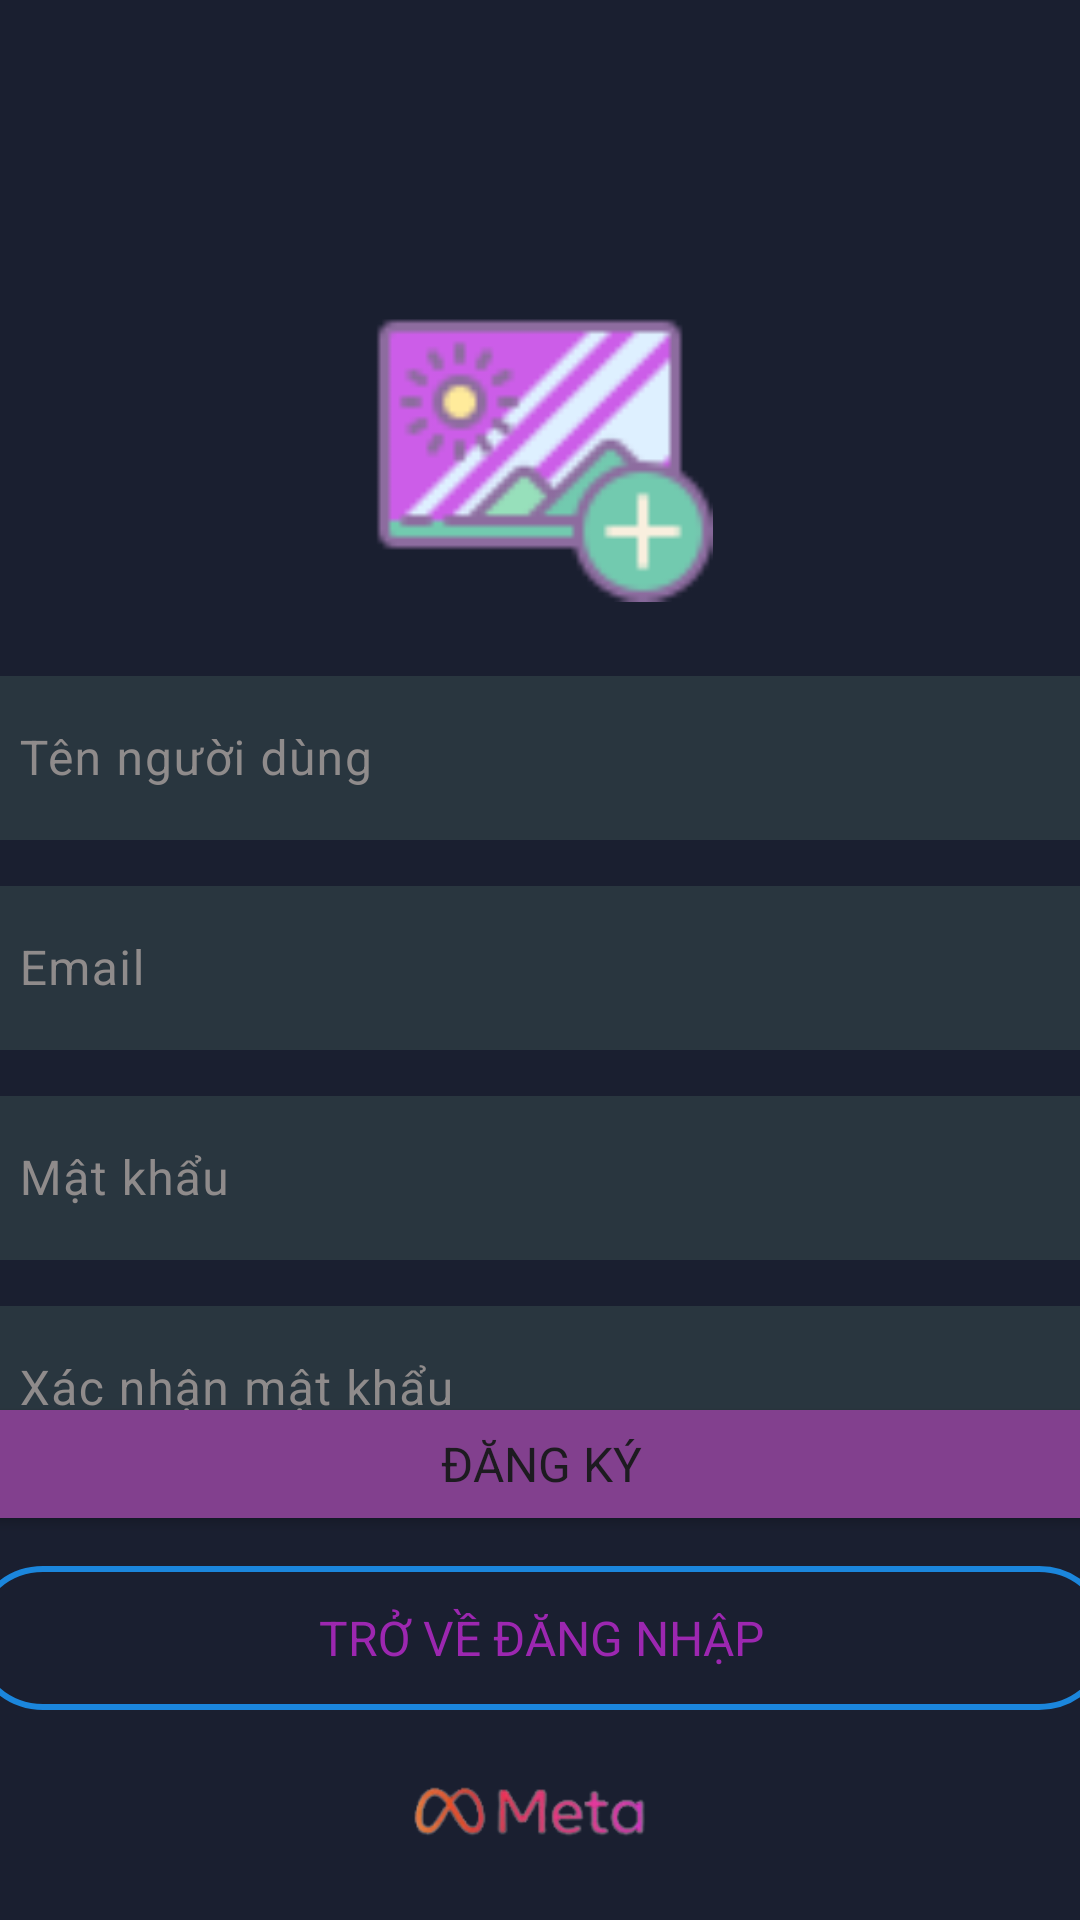

Screen size 1080*1920. Icon name, then its box in pixels as (x1, y1, x2, y2):
addimage: (377, 320, 713, 602)
